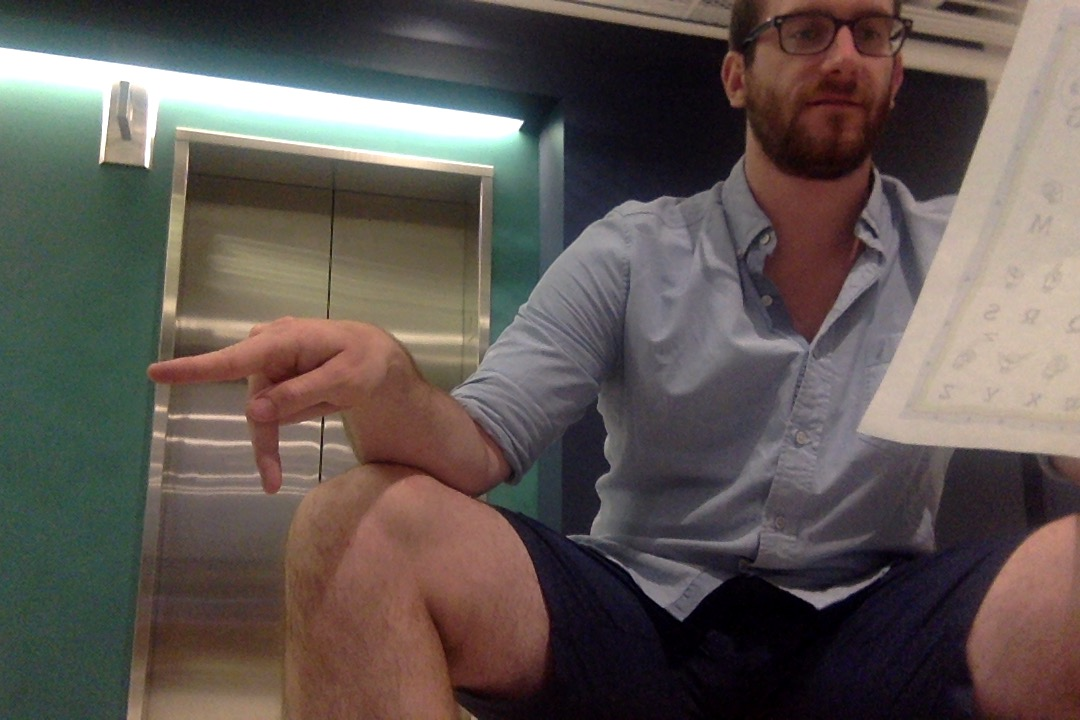p: (145, 313, 396, 498)
